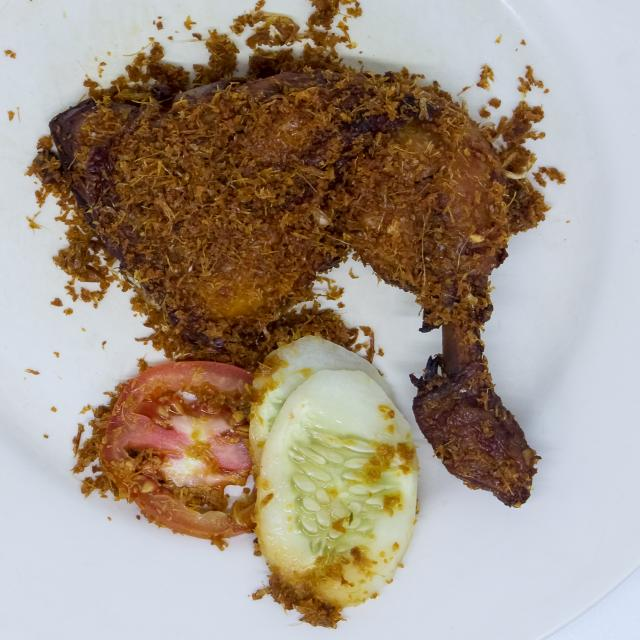Ayam-Goreng-Lengkuas: (34, 46, 556, 525)
